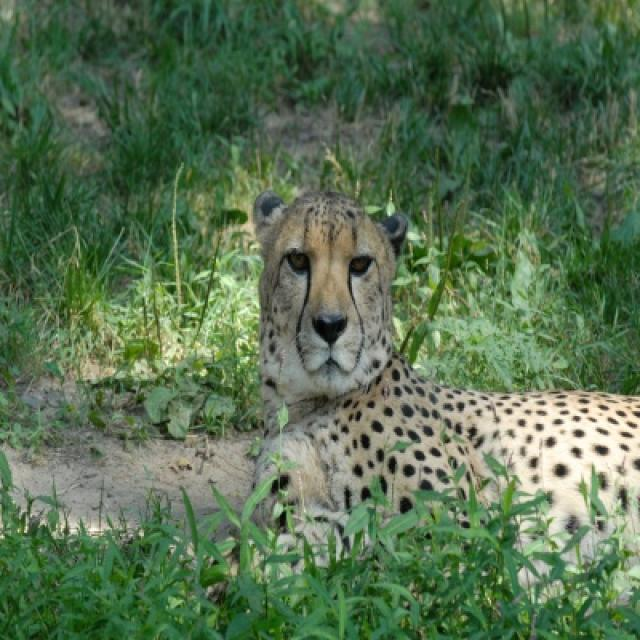Cheetah: (253, 190, 638, 557)
